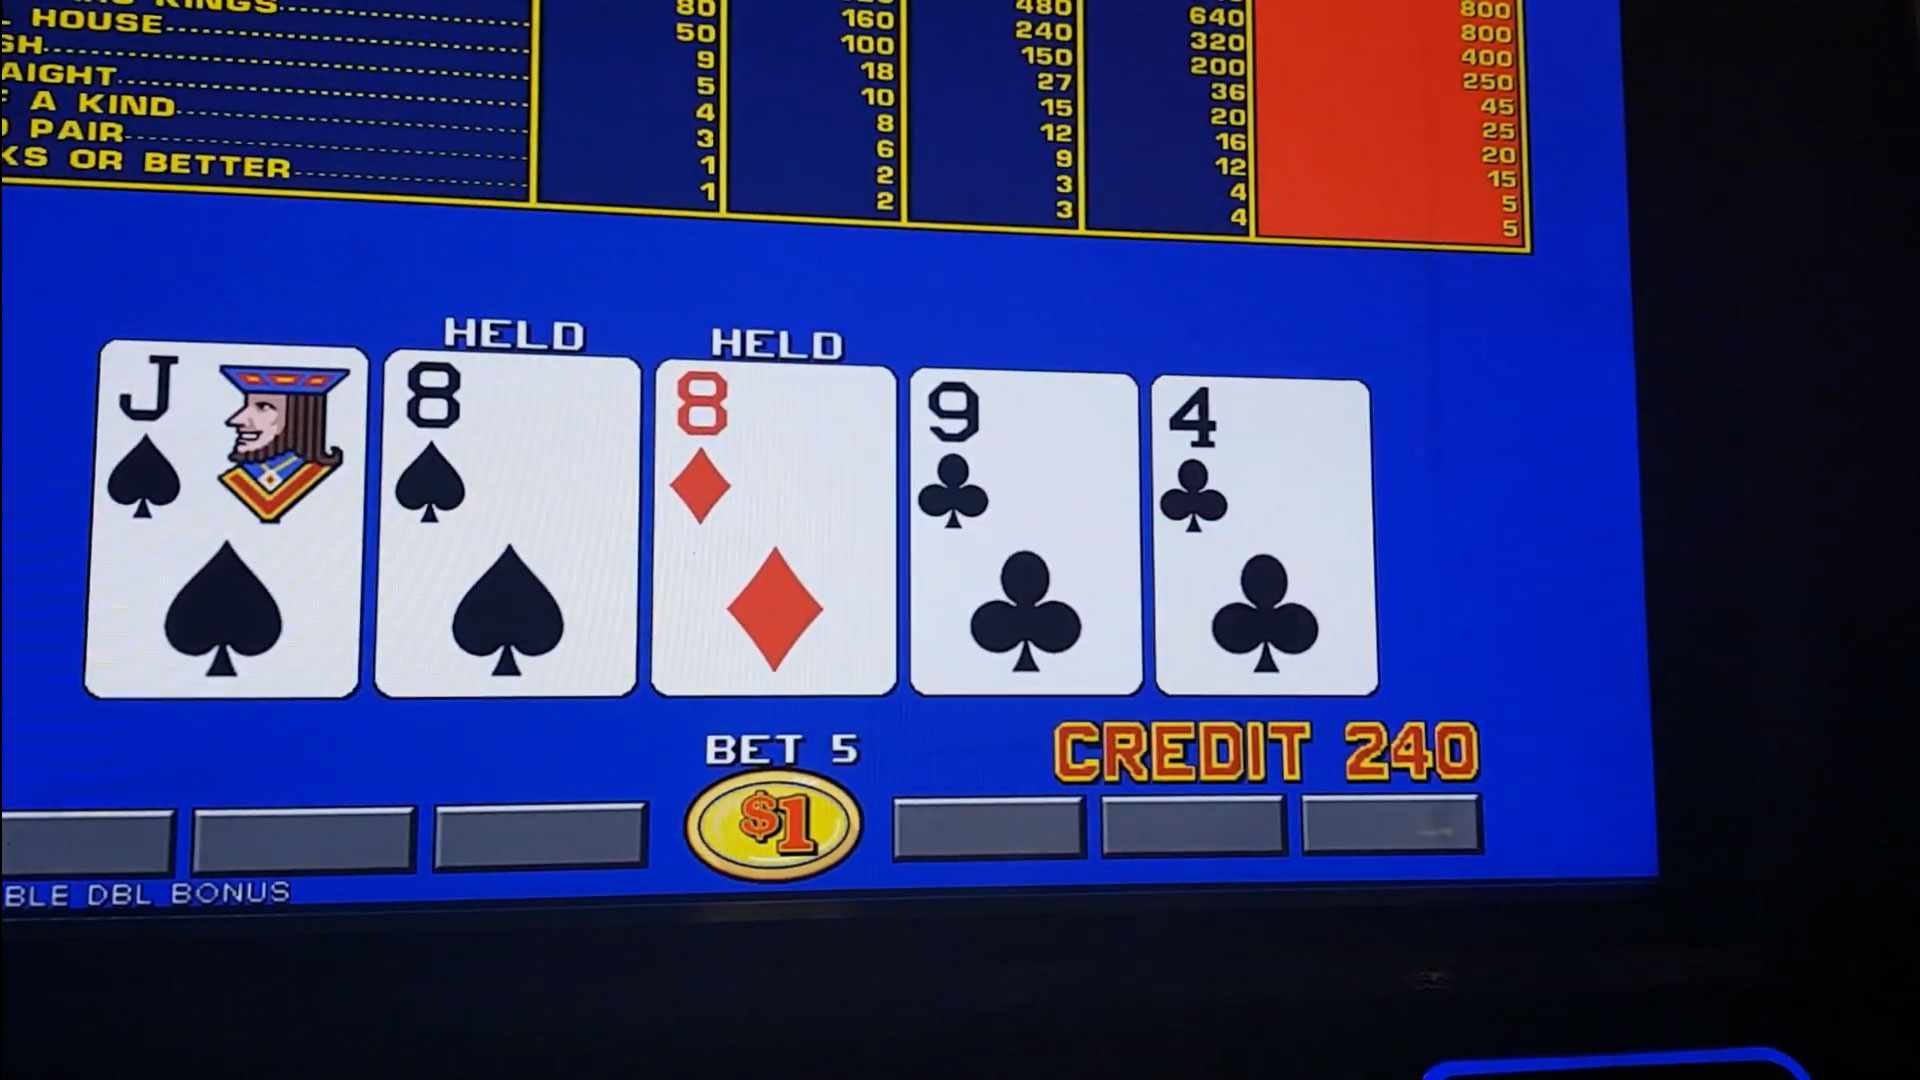C4: (1158, 381, 1364, 542)
C9: (910, 378, 1133, 542)
D8: (665, 371, 887, 535)
S8: (386, 360, 634, 537)
SJ: (104, 353, 363, 529)
